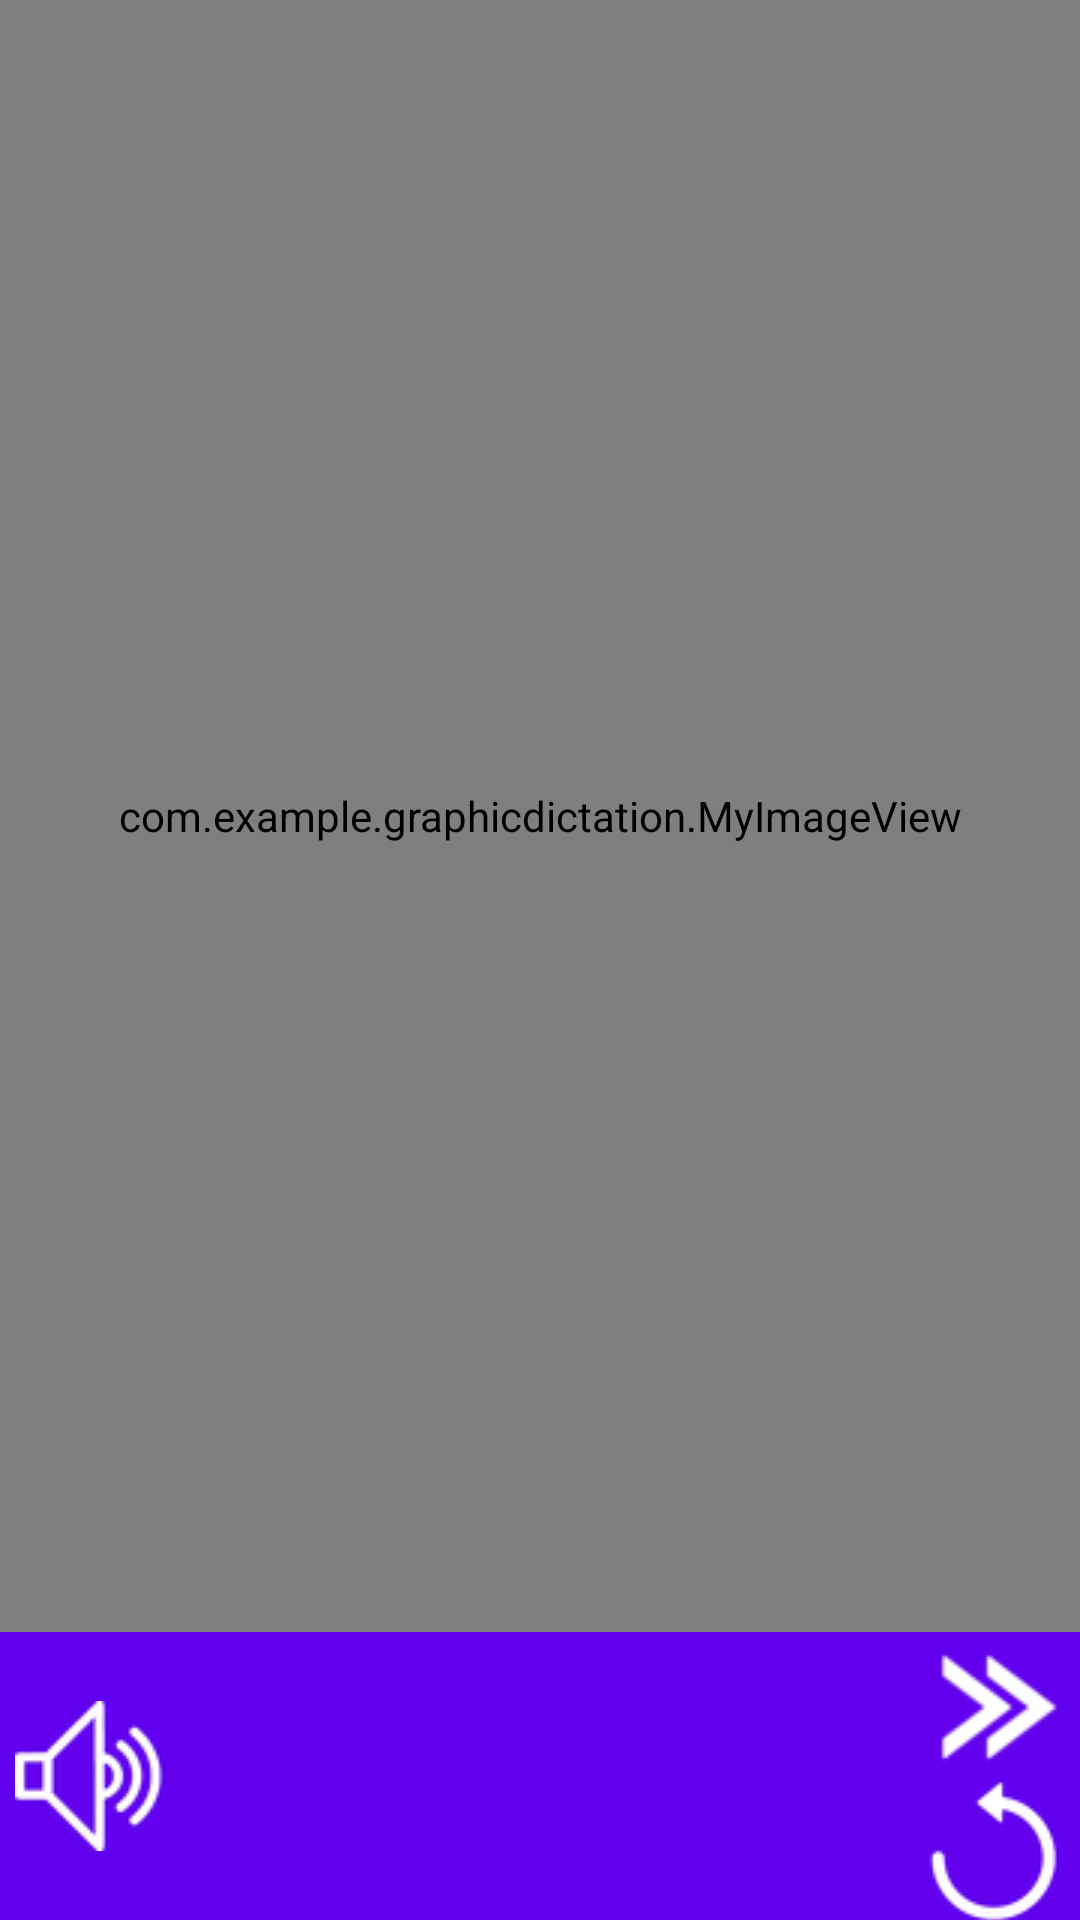

Screen size 1080 × 1920. Icon name, then its center in pixels as (x=x, y=y):
nextbtn: (x=999, y=1707)
voicebtn: (x=89, y=1776)
